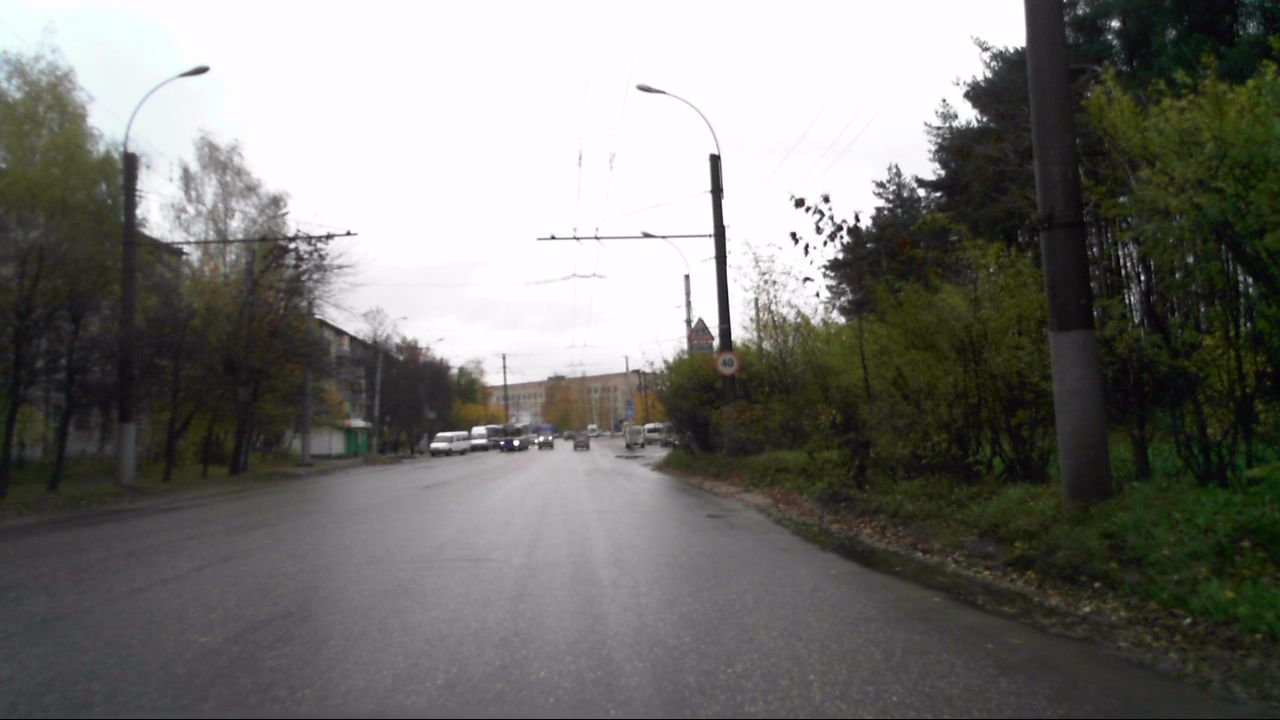speed_warning_40: (714, 351, 739, 376)
